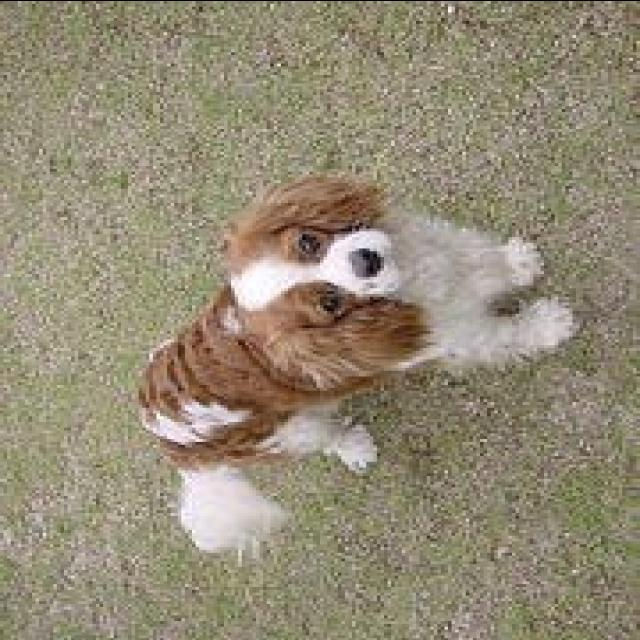blenheim_spaniel: (132, 173, 586, 554)
